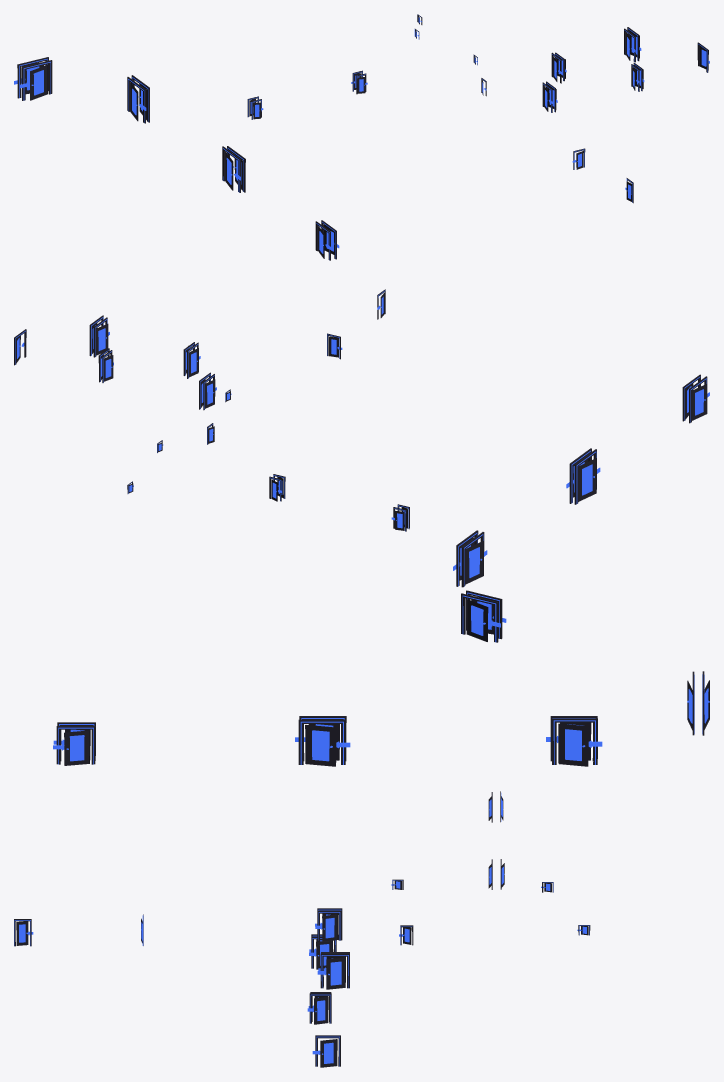
The model's file is doors.glb.
The picture shows the model from 3 angles, top to bottom: view 1: azimuth 30°, elevation 25°; view 2: azimuth 150°, elevation 25°; view 3: azimuth 270°, elevation 25°; orthographic projection. The views are drawn at different scales.
Visible parts, largest first — view 1: Plane.014, Plane.015; view 2: Plane.016 (×3), Plane.017; view 3: Plane.016 (×2), Plane.014 (×2), Plane.017 (×2).
Part boxes in pixels (<box>): Plane.014: <box>30,65,47,100</box>; Plane.015: <box>20,60,52,100</box>; Plane.016 (×3): <box>465,458,596,641</box>; Plane.017: <box>461,593,500,642</box>; Plane.016 (×2): <box>305,723,588,766</box>; Plane.014 (×2): <box>64,730,345,989</box>; Plane.017 (×2): <box>298,718,602,764</box>.
Bounding box in the file's own units: 59.89 × 5.6 × 49.67.
